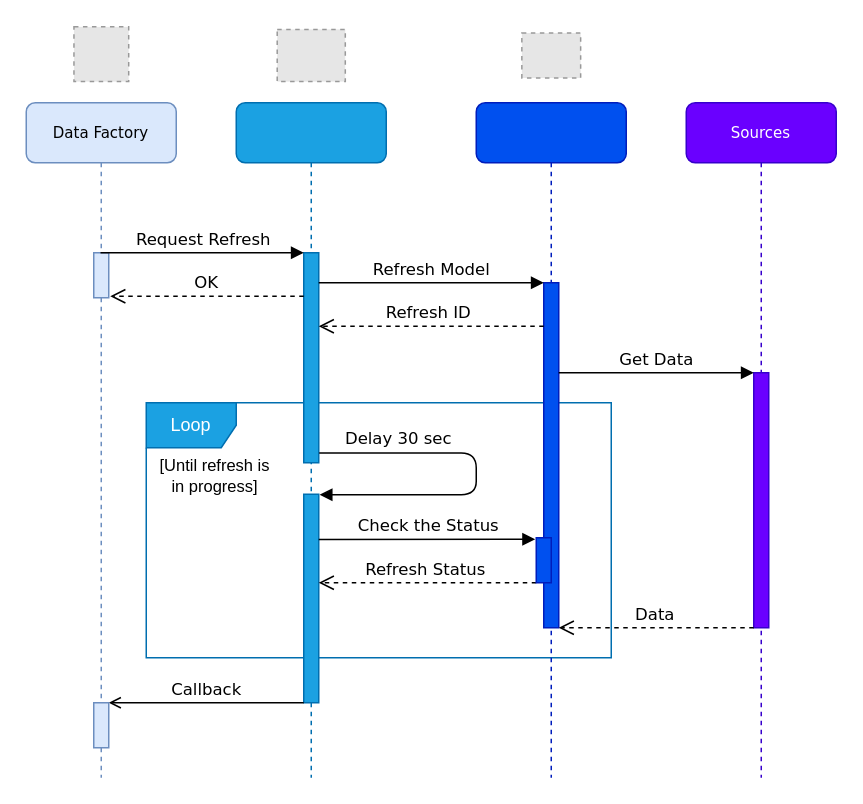
The diagram is 863 pixels wide and 804 high, and some of its shapes have lost their labels. Grey dashed boxes stand in for pictures. Each missing label, with the centre of its shape:
"Analysis Services" belongs at [550,439].
"Logic App" belongs at [310,439].
